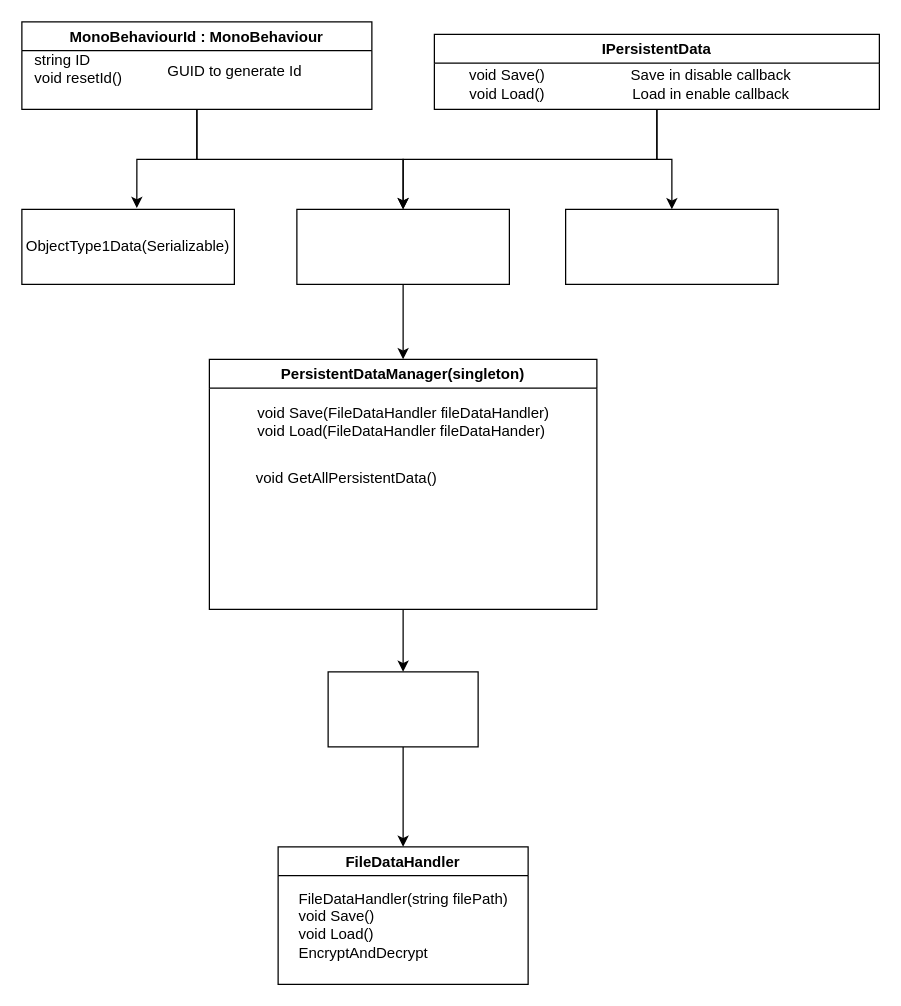
Some shapes in this 901 by 1006 pixel diagram are drawn without their labels. The shapes that lost their labels are listed below. From the top down, each one's centre as x and y in pixels, then its label:
pixel 402 246: ObjectType2Data(Serializable)
pixel 671 246: ObjectType3Data(Serializable)
pixel 402 709: MainData
